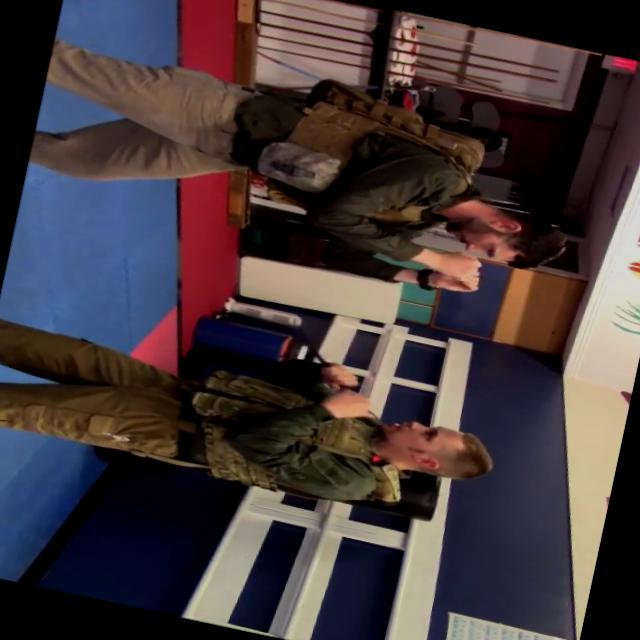knife: (277, 328, 354, 385)
